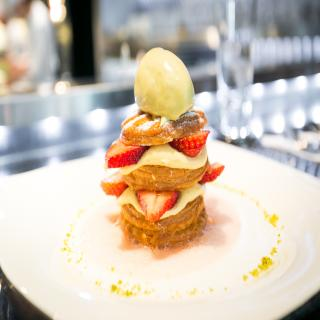Pancake: (105, 66, 211, 224)
